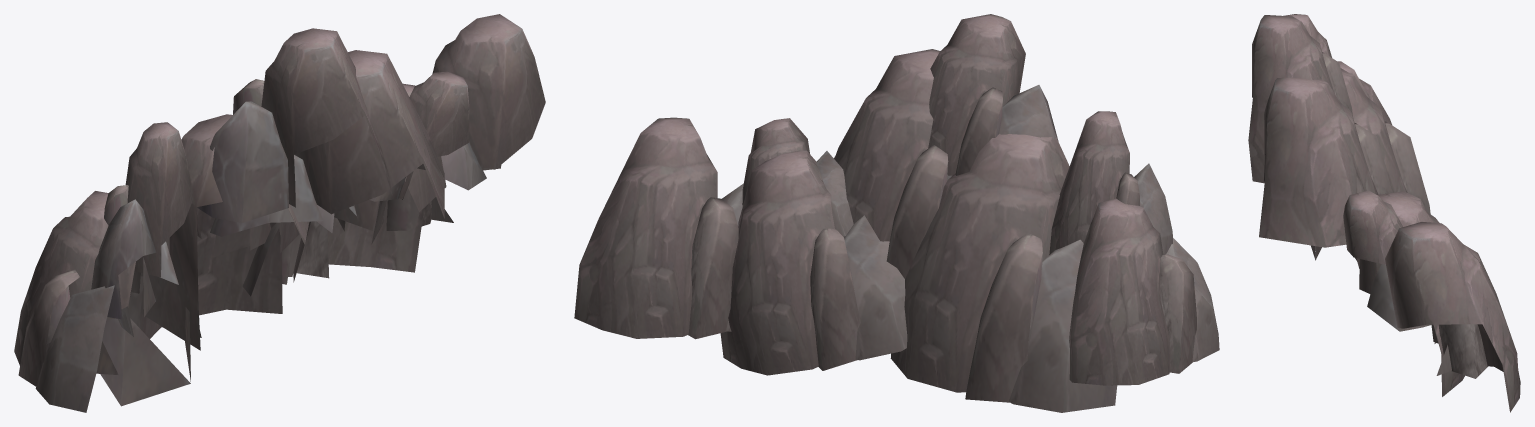
Rendered from area_02_7.FBX.
3 views of the same model, side by side, from view 1: azimuth 30°, elevation 25°; view 2: azimuth 150°, elevation 25°; view 3: azimuth 270°, elevation 25° (orthographic). The views are drawn at different scales.
Parts seen in each view (by area): view 1: area_02_7; view 2: area_02_7; view 3: area_02_7.
Boxes of the visible parts, <box> form: area_02_7: <box>14,14,545,412</box>; area_02_7: <box>574,14,1219,412</box>; area_02_7: <box>1248,14,1520,412</box>.
Bounding box in the file's own units: 96.05 × 55.78 × 46.16.
